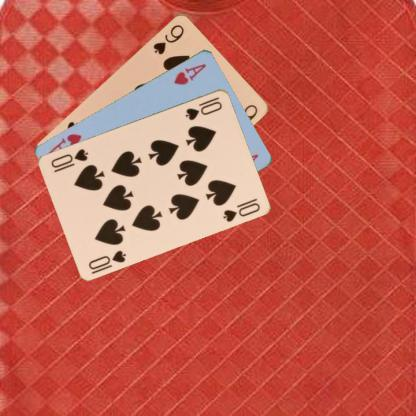10s: (182, 94, 224, 121), (86, 247, 128, 271)
9s: (150, 22, 186, 56)
Ah: (171, 61, 207, 86)
